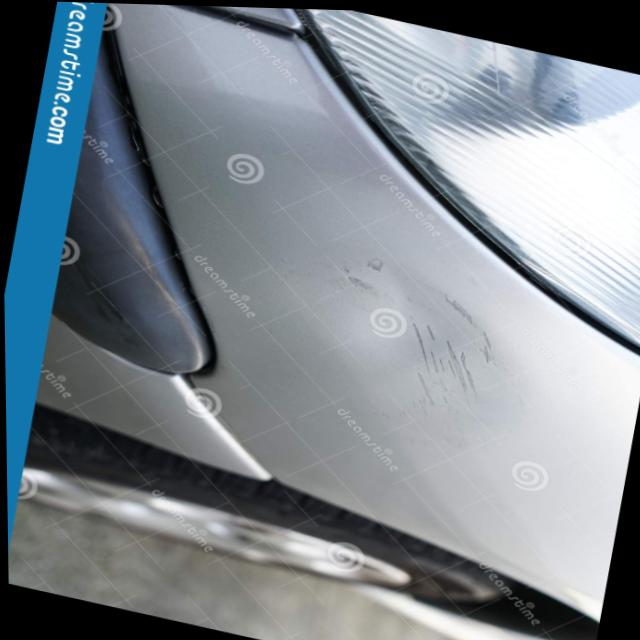Scratch: (322, 261, 497, 447)
